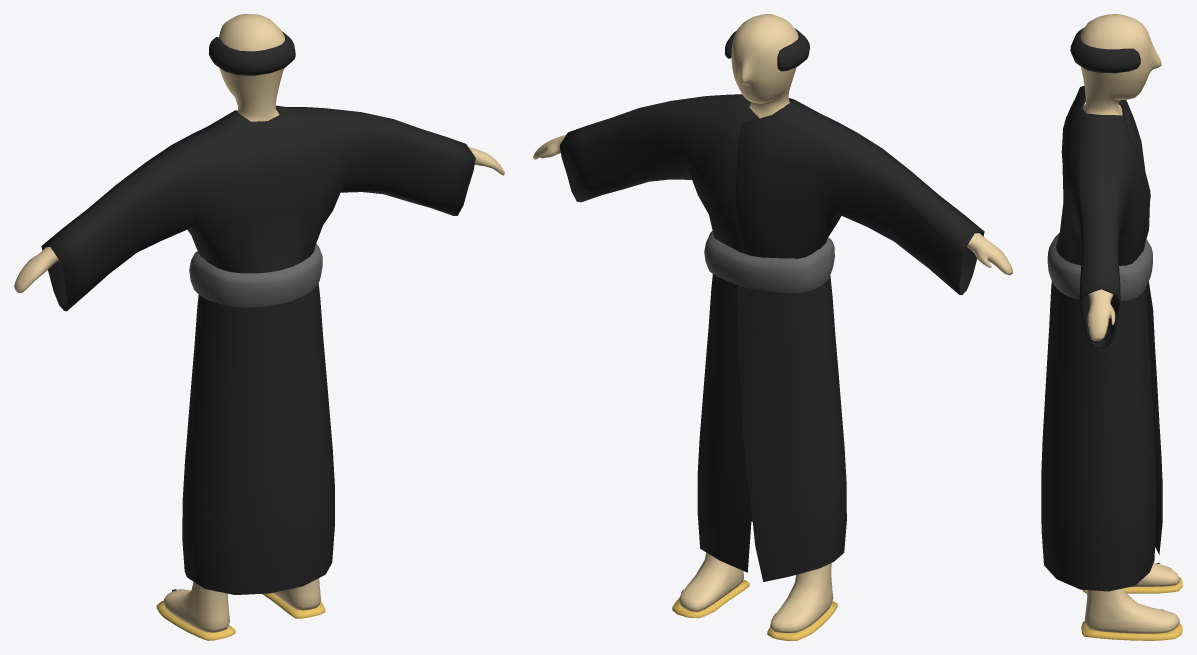
The model's file is hombre.fbx.
The picture shows the model from 3 angles, left to right: view 1: azimuth 30°, elevation 25°; view 2: azimuth 150°, elevation 25°; view 3: azimuth 270°, elevation 25°; orthographic projection. The views are drawn at different scales.
Parts seen in each view (by area): view 1: Ropa.001; view 2: Ropa.001; view 3: Ropa.001.
Part boxes in pixels (x1,y1,x2,y2): Ropa.001: (14, 14, 504, 640); Ropa.001: (533, 14, 1012, 640); Ropa.001: (1041, 14, 1182, 640).
Bounding box in the file's own units: 141 × 166 × 35.98.
